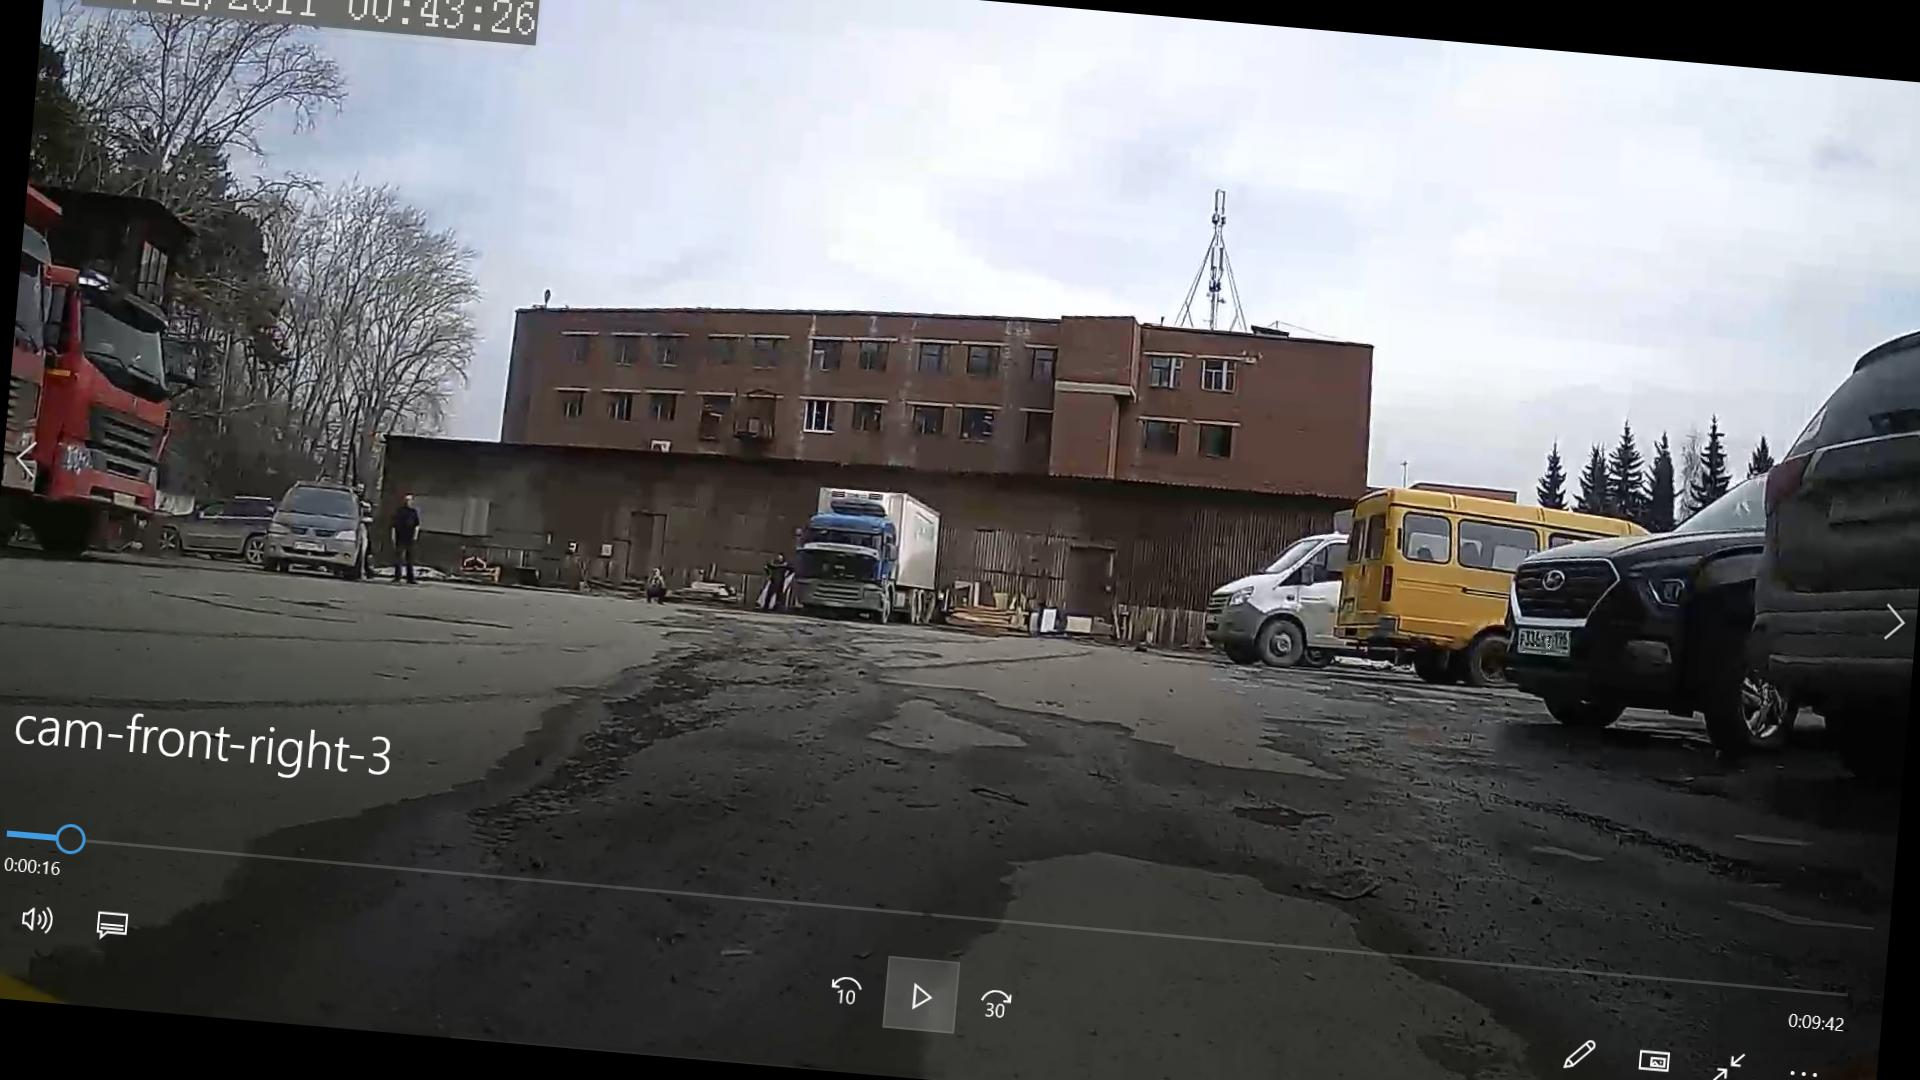plate: (1518, 629, 1572, 658)
